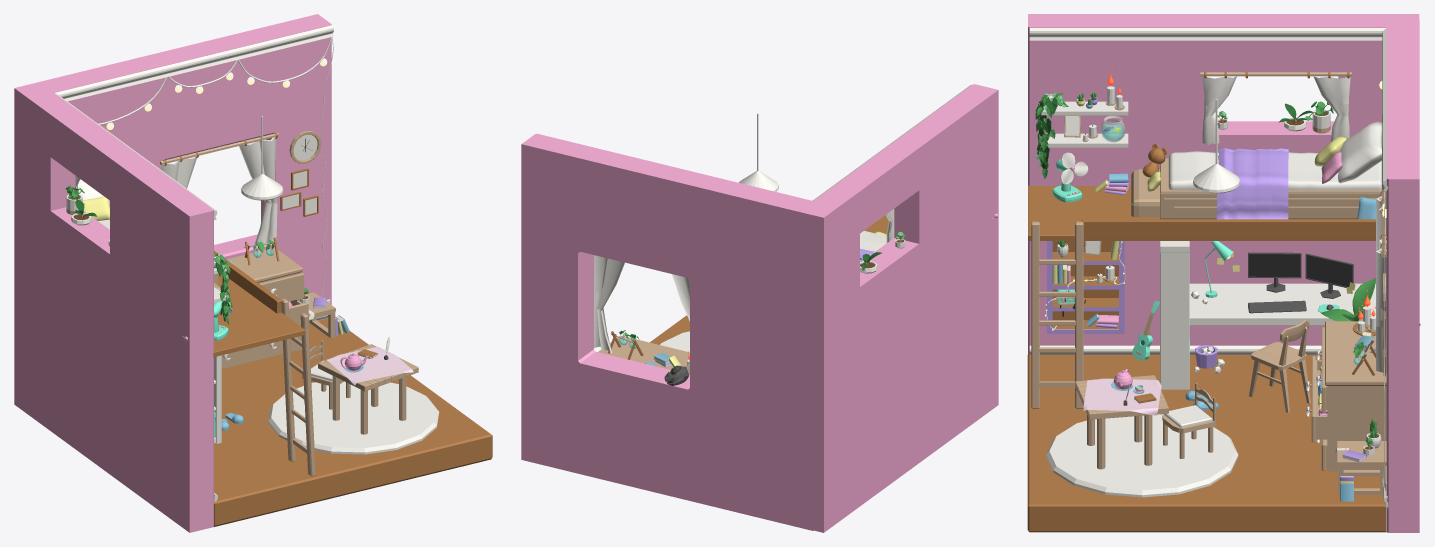
Rendered from room_level_2.glb.
3 renders of one model, left to right at view 1: azimuth 30°, elevation 25°; view 2: azimuth 150°, elevation 25°; view 3: azimuth 270°, elevation 25°, orthographic. The views are drawn at different scales.
Visible parts, largest first — view 1: pCube3, pCube2, pCube1, pCylinder1, pSphere140, commode, pCube58, pCube90, pCube152, pCube25, pSphere28, pCube93 (+4 smaller); view 2: pCube2, pCube3, pCube25, commode; view 3: pCube3, pCube1, pCube2, pCylinder1, commode, pSphere140, pCube93, pCube101, pPlane11, pCube89, pCube58, pCube138 (+28 smaller).
Part boxes in pixels (bbox=[...]): pCube3: bbox=[14, 82, 213, 532]; pCube2: bbox=[40, 14, 331, 304]; pCube1: bbox=[214, 318, 492, 526]; pCylinder1: bbox=[268, 381, 439, 454]; pSphere140: bbox=[302, 340, 418, 434]; commode: bbox=[221, 247, 308, 368]; pCube58: bbox=[213, 273, 305, 357]; pCube90: bbox=[55, 25, 333, 101]; pCube152: bbox=[281, 298, 315, 476]; pCube25: bbox=[161, 137, 277, 245]; pSphere28: bbox=[98, 37, 331, 129]; pCube93: bbox=[214, 251, 281, 313]; pCube2: bbox=[521, 133, 813, 530]; pCube3: bbox=[799, 84, 998, 532]; pCube25: bbox=[594, 255, 689, 371]; commode: bbox=[598, 335, 689, 369]; pCube3: bbox=[1028, 14, 1419, 353]; pCube1: bbox=[1027, 353, 1386, 532]; pCube2: bbox=[1386, 20, 1419, 532]; pCylinder1: bbox=[1046, 414, 1238, 497]; commode: bbox=[1306, 321, 1386, 471]; pSphere140: bbox=[1075, 369, 1216, 469]; pCube93: bbox=[1081, 219, 1375, 239]; pCube101: bbox=[1189, 283, 1375, 325]; pPlane11: bbox=[1216, 148, 1288, 219]; pCube89: bbox=[1029, 28, 1385, 40]; pCube58: bbox=[1028, 185, 1375, 240]; pCube138: bbox=[1160, 241, 1189, 389].
Size of the model in its own units: 1.05 by 1.04 by 1.04.
